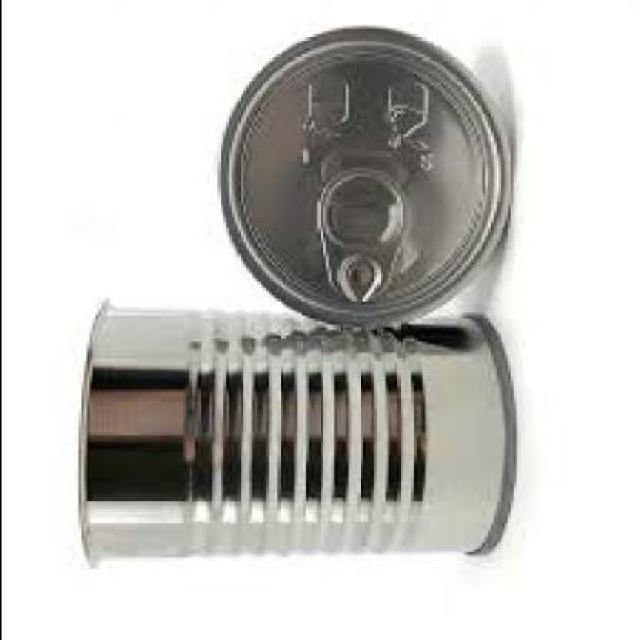METAL: (72, 295, 514, 563), (216, 23, 512, 322)
